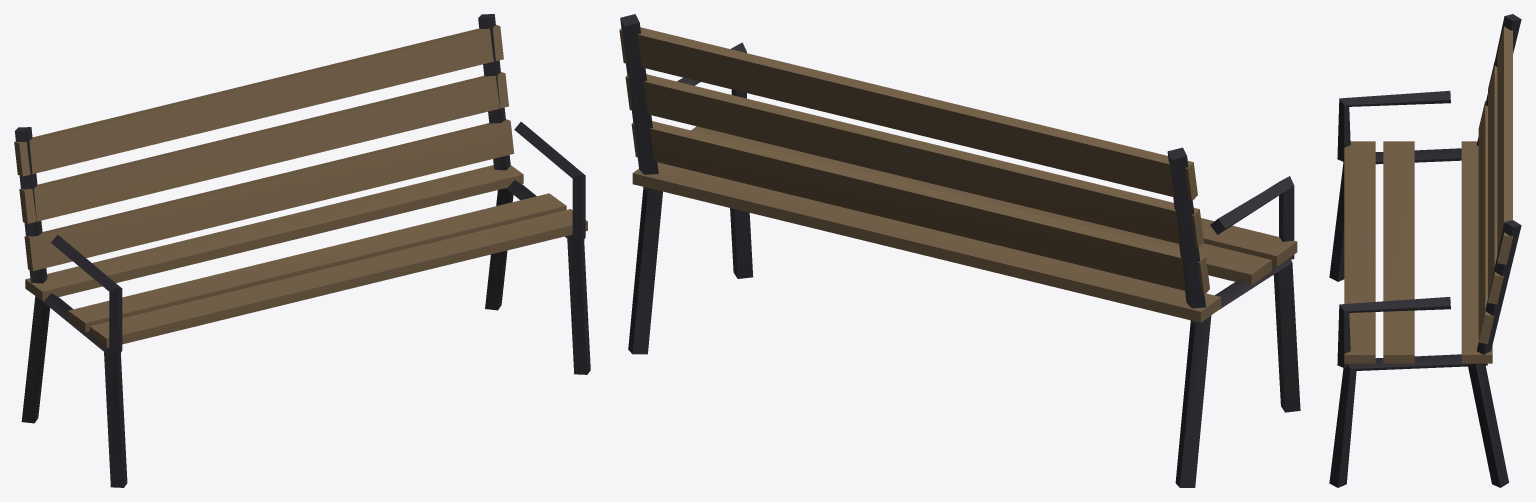
Rendered from curb_bench.glb.
3 views of the same model, side by side, from view 1: azimuth 30°, elevation 25°; view 2: azimuth 150°, elevation 25°; view 3: azimuth 270°, elevation 25° (orthographic). The views are drawn at different scales.
Parts seen in each view (by area): view 1: curb_bench; view 2: curb_bench; view 3: curb_bench.
Boxes of the visible parts, left/top/right/bottom form: curb_bench: left=14, top=14, right=590, bottom=487; curb_bench: left=619, top=14, right=1300, bottom=487; curb_bench: left=1329, top=14, right=1521, bottom=487.
Bounding box in the file's own units: 1.62 × 0.9257 × 0.6153.
